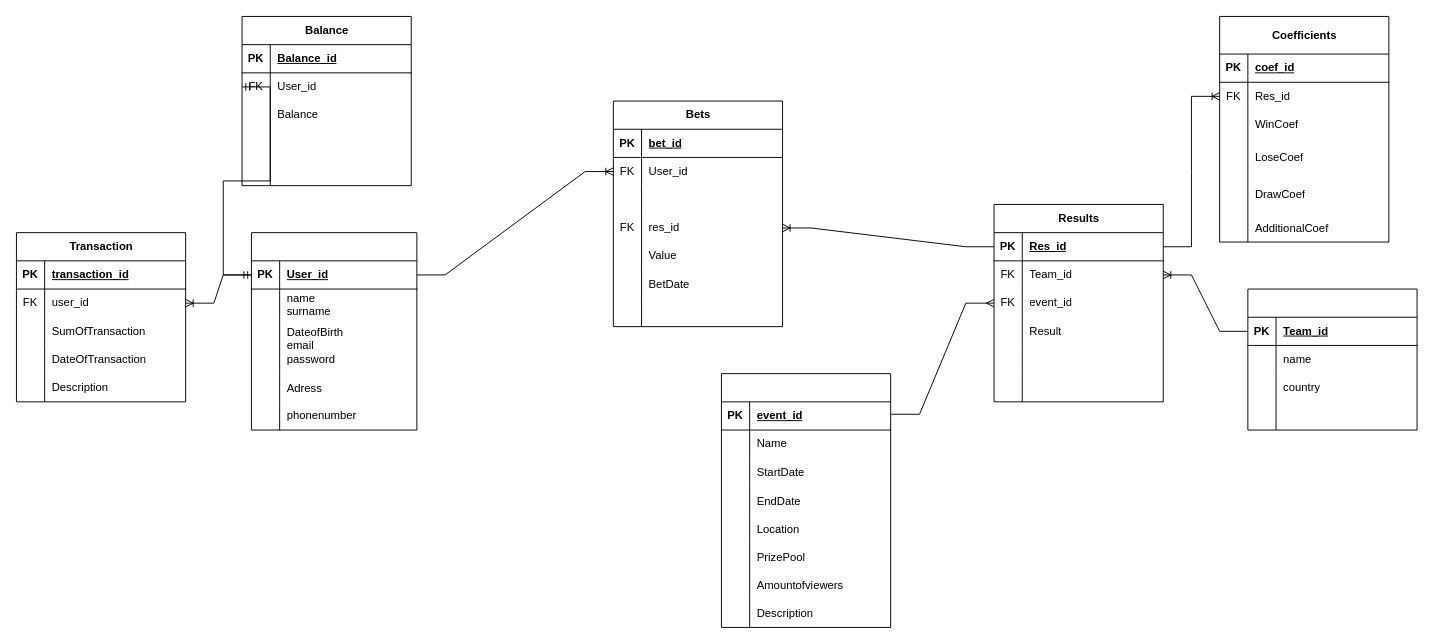
Some shapes in this 1434 by 644 pixel diagram are drawn without their labels. Each missing label, with the box of its shape:
Events: (721, 373, 891, 627)
Teams: (1247, 288, 1417, 430)
Users: (251, 232, 417, 430)
